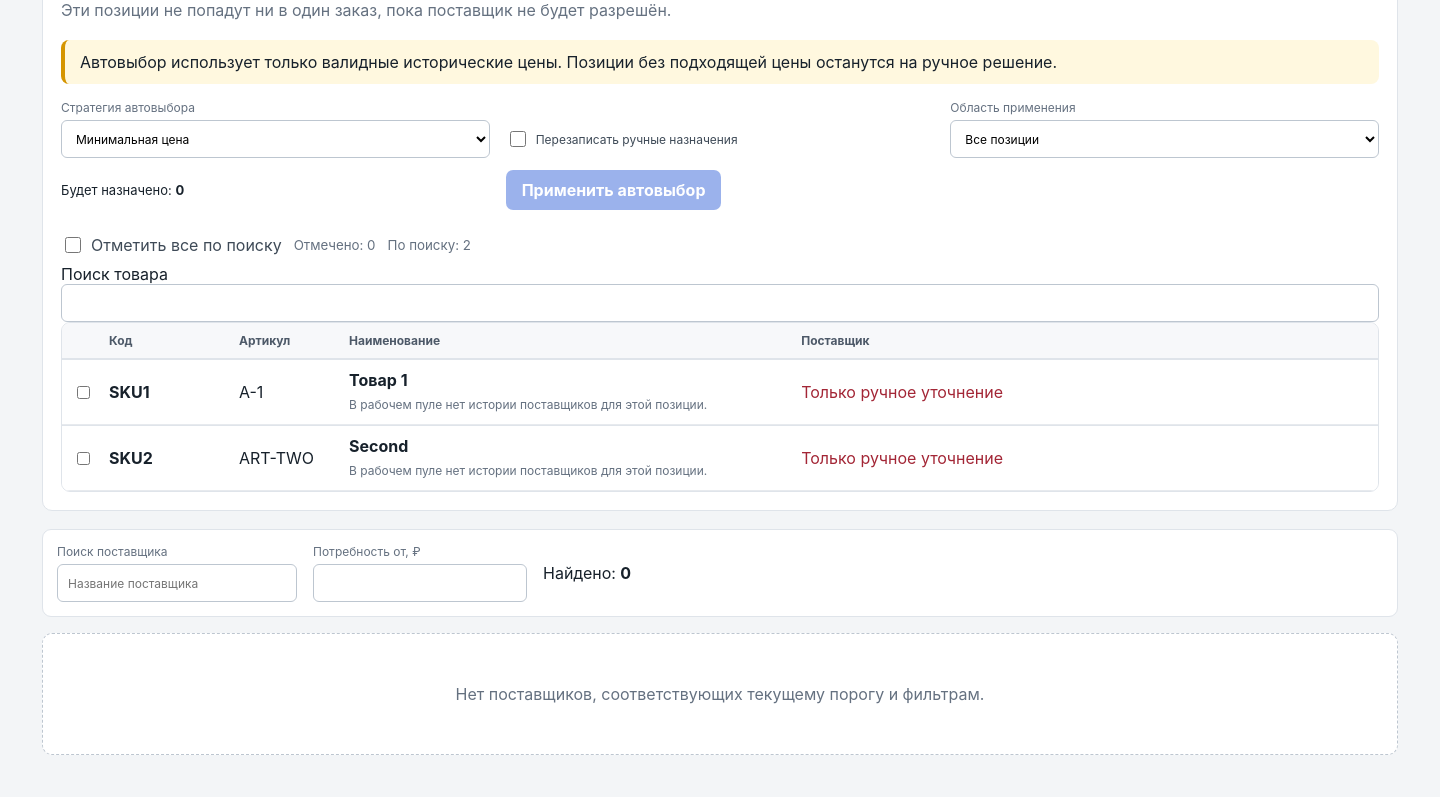
Test: preserves supplier selections hidden by product search when selecting or clearing the filtered set
(page scrolled)
Click the checkbox named "Выбрать SKU1" at (84, 392), box [77,386,90,398]
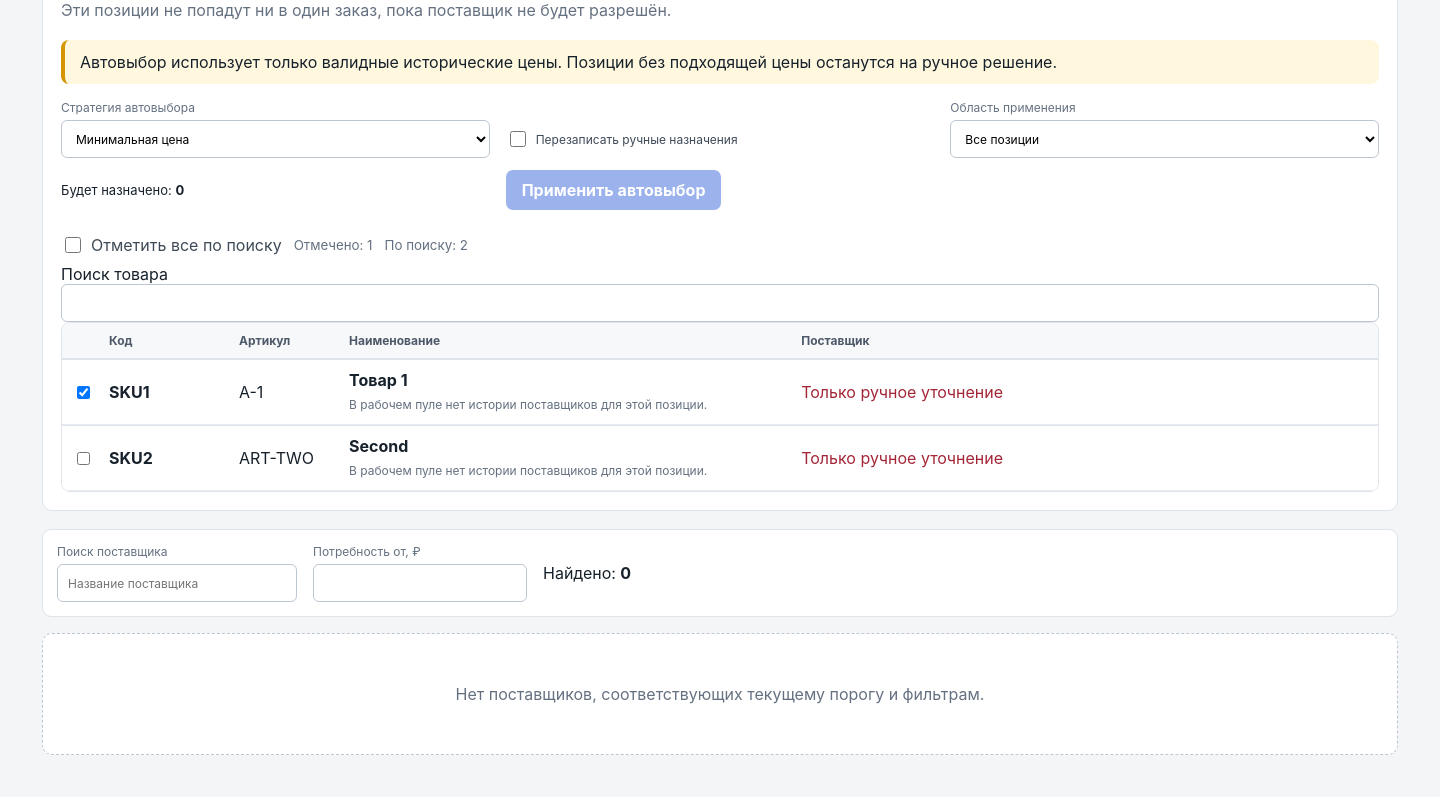
Type "ART-TWO" into the field named "Поиск товара для выбора поставщика" at (720, 303), box [61,284,1379,322]
(page scrolled)
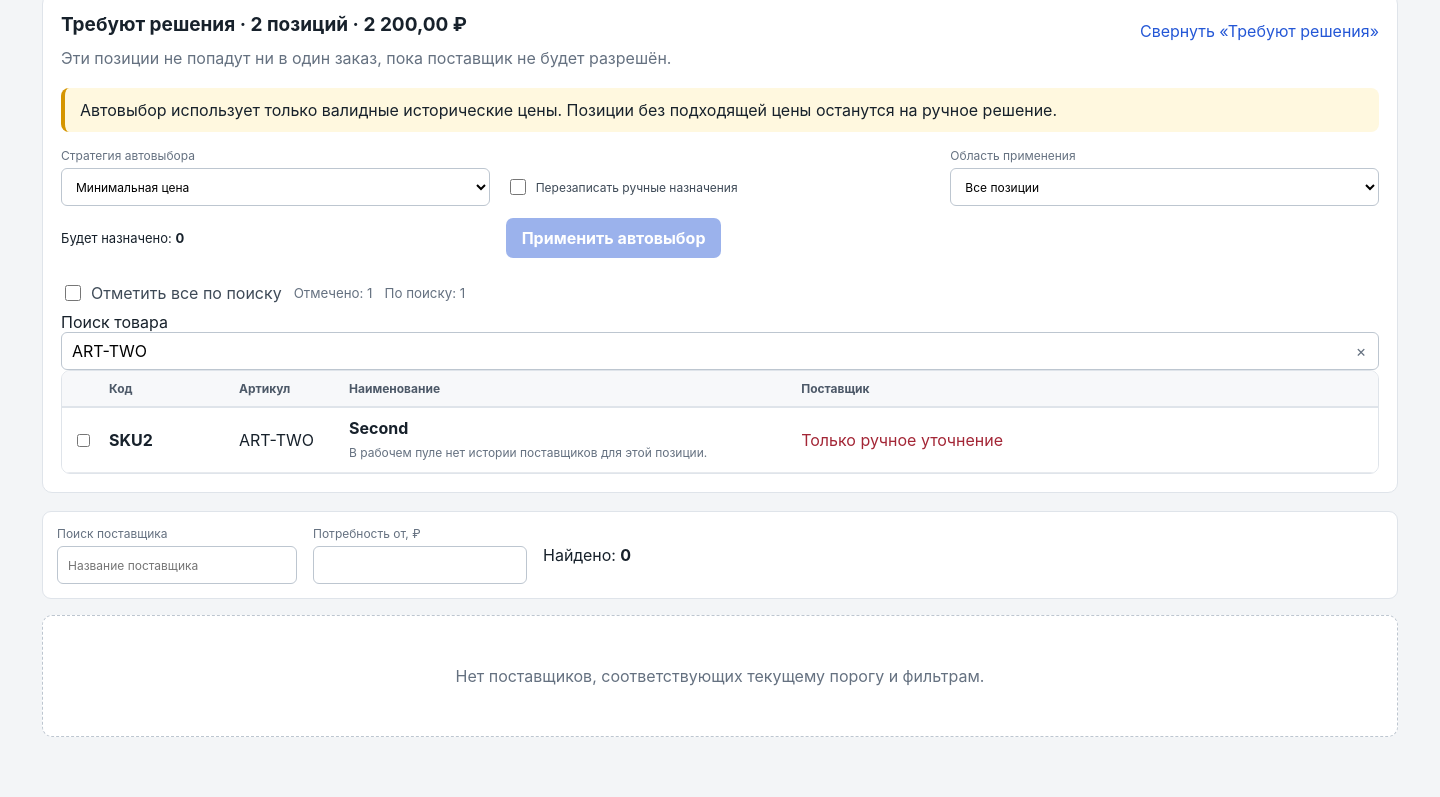
Click the checkbox named "Выбрать все позиции" at (73, 293), box [65,285,81,301]
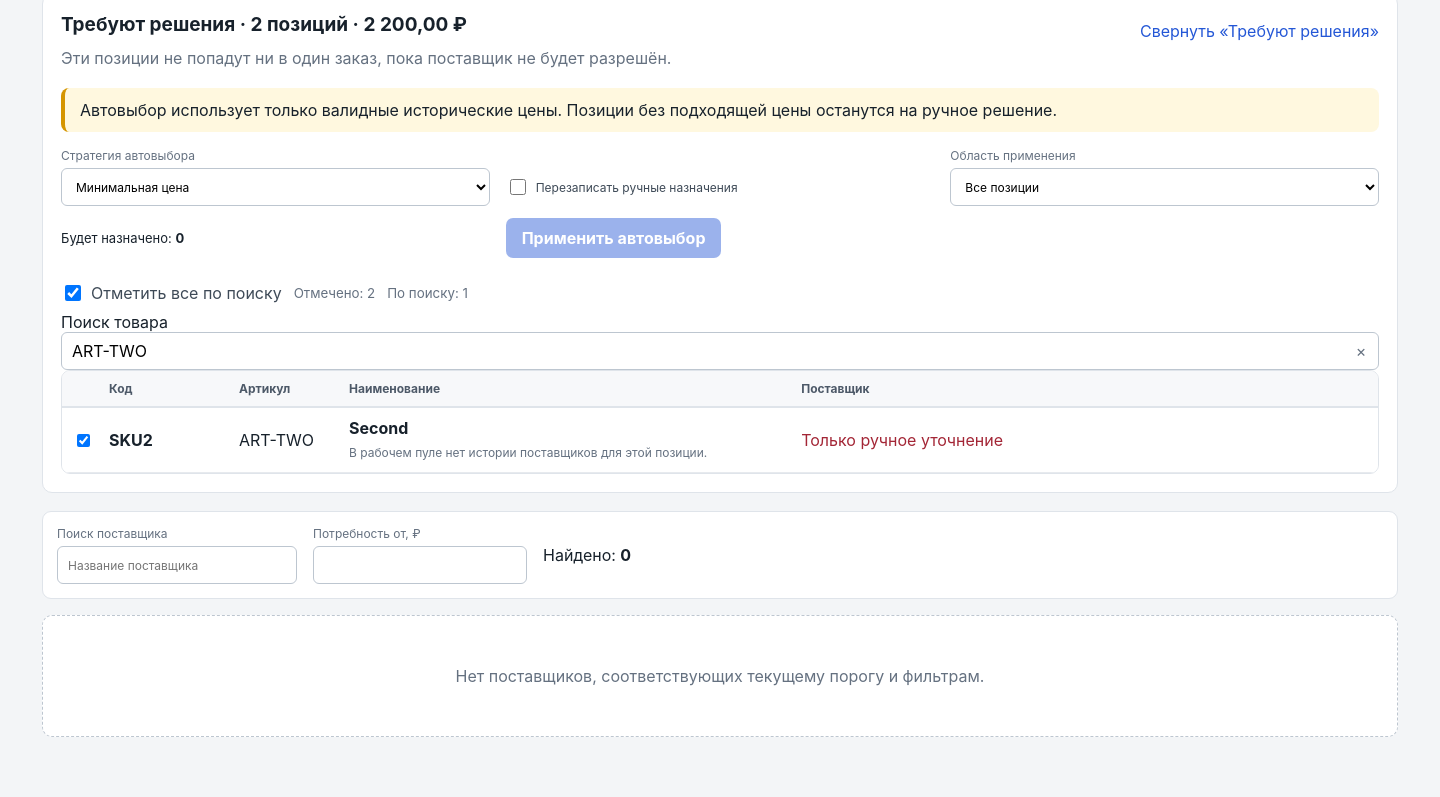
Expected: the text "Отмечено: 2" is shown, [294,285,375,301]
Click the checkbox named "Выбрать все позиции" at (73, 293), box [65,285,81,301]
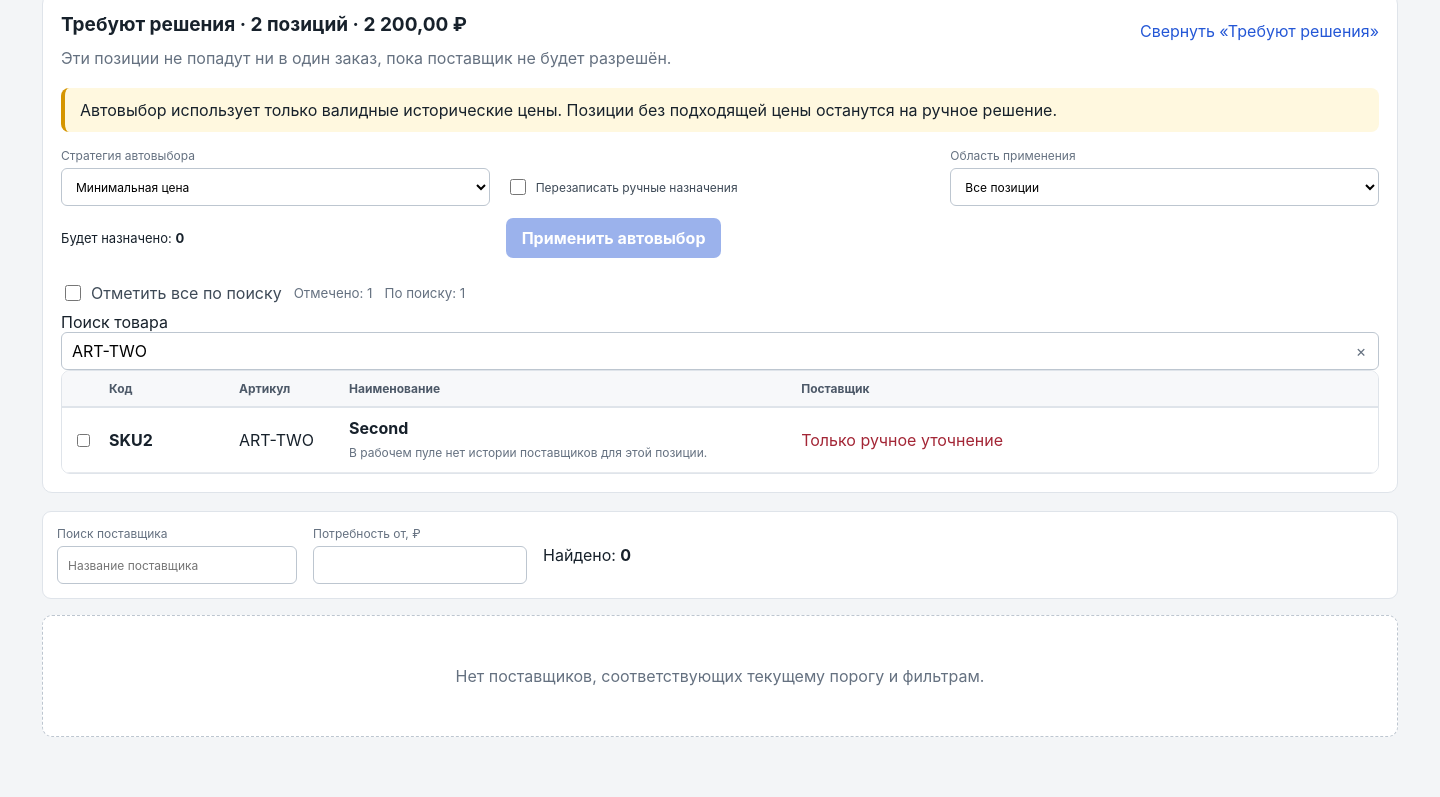
Clear the field named "Поиск товара для выбора поставщика" at (720, 351), box [61,332,1379,370]
(page scrolled)
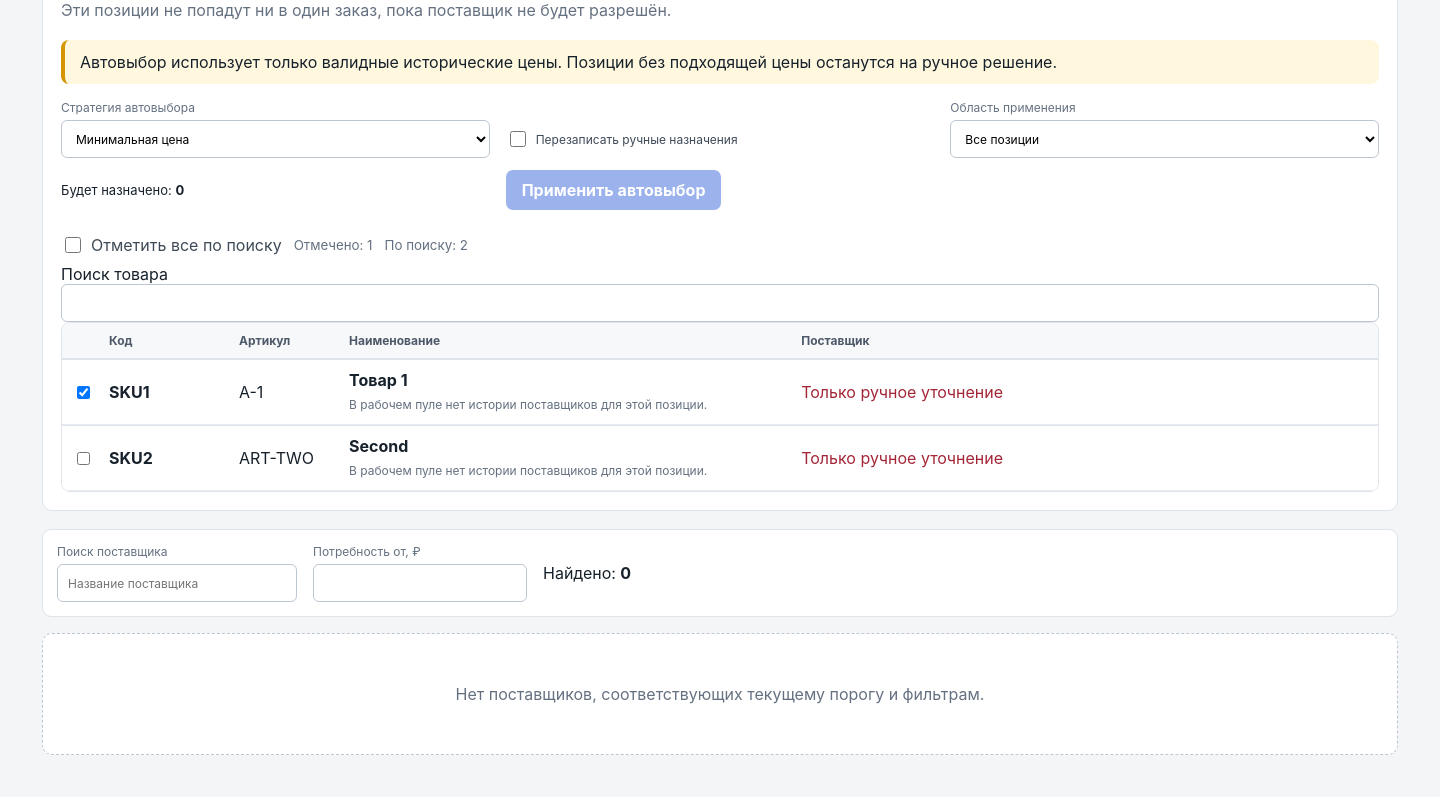
Expected: the checkbox named "Выбрать SKU2" is not checked, [77,452,90,464]
Expected: the checkbox named "Выбрать SKU1" is checked, [77,386,90,398]
